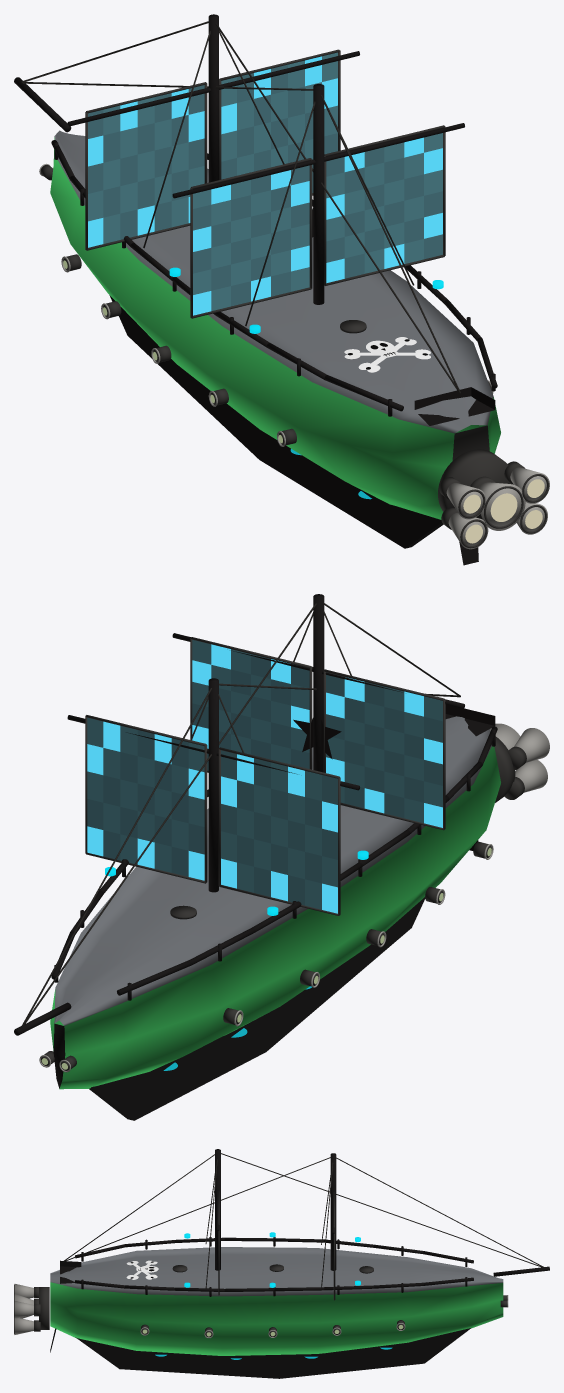
The model's file is Ship_Pirate_5.glb.
The picture shows the model from 3 angles, top to bottom: view 1: azimuth 30°, elevation 25°; view 2: azimuth 150°, elevation 25°; view 3: azimuth 270°, elevation 25°; orthographic projection. The views are drawn at different scales.
Visible parts, largest first — view 1: Hull_MetalSailingShipBody, SolarPanelSail_Main_01_RigidHeritageArray, SolarPanelSail_Fore_01_RigidHeritageArray, Keel_DeepSpaceSailingKeel, Mast_Main_DarkMetalHeritageSpar, EngineDeck_AftTransomArmoredMount, Mast_Fore_DarkMetalHeritageSpar, EngineEmitter, Yard_Fore_01_SolarPanelCrossSpar, Yard_Main_01_SolarPanelCrossSpar, SternTransom_LowReinforcedAftDeckCap, EngineBell_Center_IronRocketNozzle (+3 smaller); view 2: Hull_MetalSailingShipBody, SolarPanelSail_Fore_01_RigidHeritageArray, SolarPanelSail_Main_01_RigidHeritageArray, Keel_DeepSpaceSailingKeel, Mast_Fore_DarkMetalHeritageSpar, Mast_Main_DarkMetalHeritageSpar, RiggingStay_Main_ForwardTautLine, RiggingStay_Fore_ForwardTautLine, EngineBell_PortUpper_IronRocketNozzle, SternTransom_LowReinforcedAftDeckCap, EngineDeck_AftTransomArmoredMount, EngineBell_PortLower_IronRocketNozzle; view 3: Hull_MetalSailingShipBody, Keel_DeepSpaceSailingKeel, Mast_Fore_DarkMetalHeritageSpar, Mast_Main_DarkMetalHeritageSpar, RiggingStay_Main_ForwardTautLine, EngineDeck_AftTransomArmoredMount, RiggingStay_Fore_AftTautLine, RiggingStay_Fore_ForwardTautLine, EngineBell_StarboardUpper_IronRocketNozzle.
Boxes of the visible parts, bbox=[...] form: Hull_MetalSailingShipBody: bbox=[50, 130, 500, 519]; SolarPanelSail_Main_01_RigidHeritageArray: bbox=[193, 133, 442, 315]; SolarPanelSail_Fore_01_RigidHeritageArray: bbox=[88, 52, 337, 247]; Keel_DeepSpaceSailingKeel: bbox=[109, 295, 443, 548]; Mast_Main_DarkMetalHeritageSpar: bbox=[313, 84, 324, 304]; EngineDeck_AftTransomArmoredMount: bbox=[438, 449, 512, 519]; Mast_Fore_DarkMetalHeritageSpar: bbox=[208, 14, 218, 182]; EngineEmitter: bbox=[463, 479, 544, 543]; Yard_Fore_01_SolarPanelCrossSpar: bbox=[67, 51, 359, 126]; Yard_Main_01_SolarPanelCrossSpar: bbox=[172, 123, 464, 198]; SternTransom_LowReinforcedAftDeckCap: bbox=[414, 387, 495, 425]; EngineBell_Center_IronRocketNozzle: bbox=[478, 482, 525, 530]; Hull_MetalSailingShipBody: bbox=[50, 716, 500, 1089]; SolarPanelSail_Fore_01_RigidHeritageArray: bbox=[87, 717, 337, 913]; SolarPanelSail_Main_01_RigidHeritageArray: bbox=[192, 640, 442, 827]; Keel_DeepSpaceSailingKeel: bbox=[89, 897, 425, 1120]; Mast_Fore_DarkMetalHeritageSpar: bbox=[208, 678, 218, 892]; Mast_Main_DarkMetalHeritageSpar: bbox=[313, 594, 324, 772]; RiggingStay_Main_ForwardTautLine: bbox=[23, 603, 316, 1026]; RiggingStay_Fore_ForwardTautLine: bbox=[21, 688, 211, 1026]; EngineBell_PortUpper_IronRocketNozzle: bbox=[514, 728, 549, 762]; SternTransom_LowReinforcedAftDeckCap: bbox=[445, 704, 495, 736]; EngineDeck_AftTransomArmoredMount: bbox=[494, 736, 515, 802]; EngineBell_PortLower_IronRocketNozzle: bbox=[515, 759, 547, 792]; Hull_MetalSailingShipBody: bbox=[50, 1247, 503, 1355]; Keel_DeepSpaceSailingKeel: bbox=[75, 1328, 470, 1378]; Mast_Fore_DarkMetalHeritageSpar: bbox=[330, 1153, 336, 1270]; Mast_Main_DarkMetalHeritageSpar: bbox=[215, 1149, 220, 1270]; RiggingStay_Main_ForwardTautLine: bbox=[221, 1153, 542, 1267]; EngineDeck_AftTransomArmoredMount: bbox=[39, 1287, 49, 1329]; RiggingStay_Fore_AftTautLine: bbox=[62, 1157, 330, 1262]; RiggingStay_Fore_ForwardTautLine: bbox=[336, 1157, 544, 1267]; EngineBell_StarboardUpper_IronRocketNozzle: bbox=[14, 1301, 33, 1318].
Bounding box in the file's own units: 2.61 × 3.56 × 7.6.
